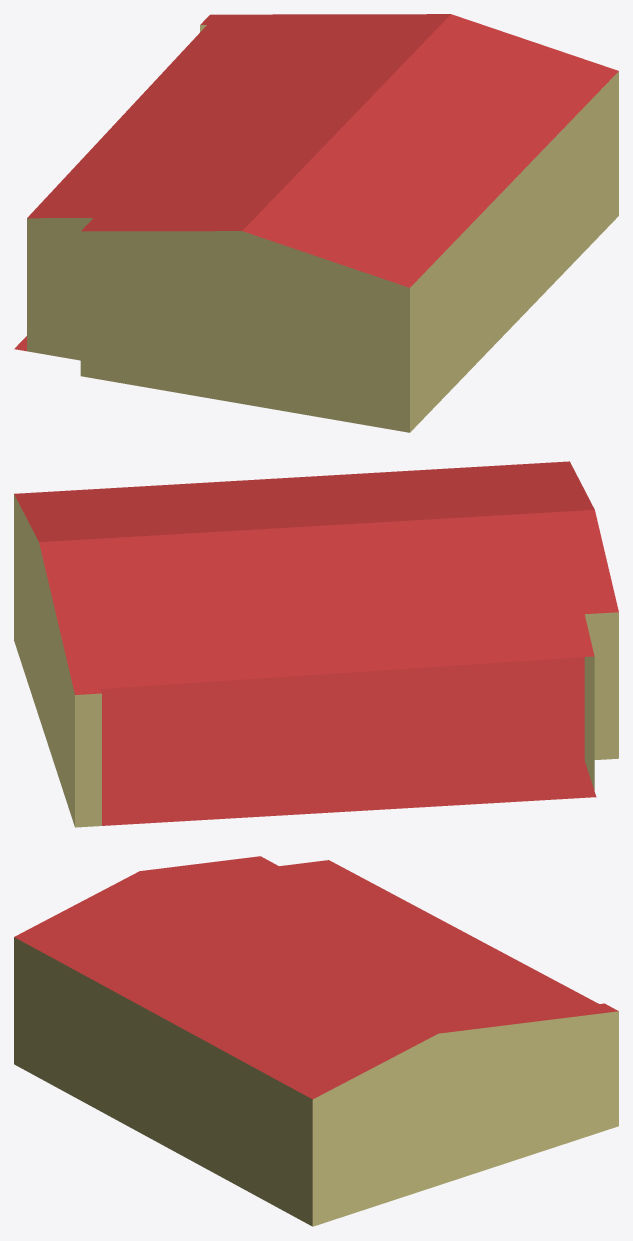
3 renders of one model, top to bottom at view 1: azimuth 30°, elevation 25°; view 2: azimuth 150°, elevation 25°; view 3: azimuth 270°, elevation 25°, orthographic. The views are drawn at different scales.
Size of the model in its own units: 34.18 by 34.54 by 9.57.
